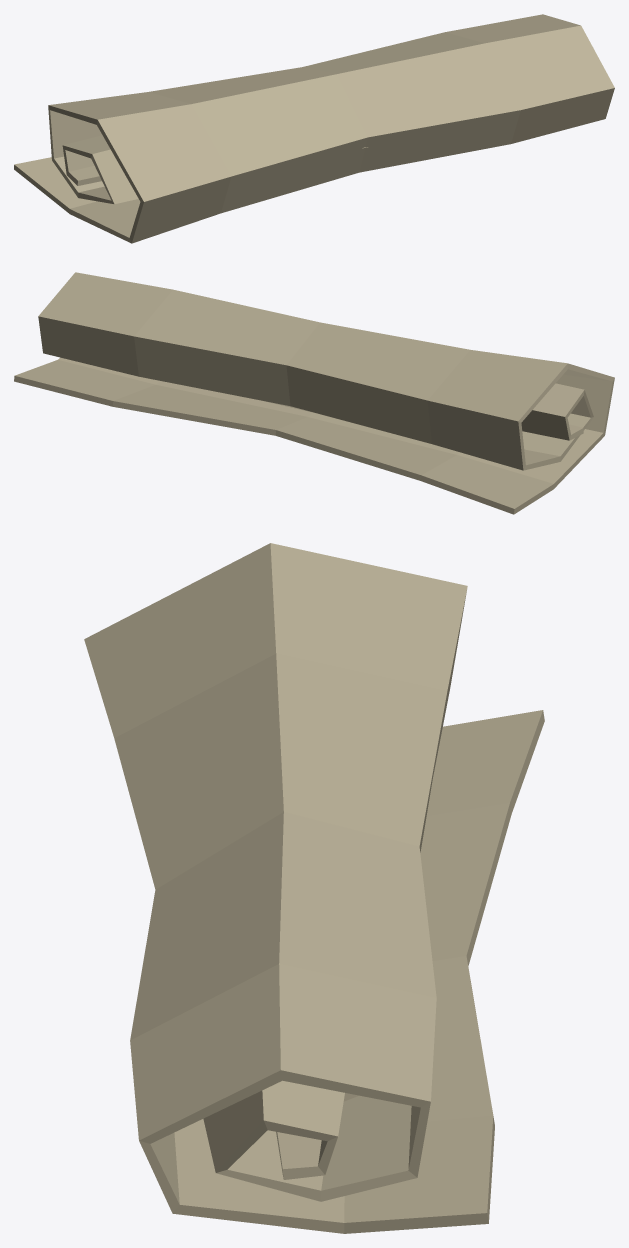
The model's file is Scroll_Big.glb.
3 renders of one model, top to bottom at view 1: azimuth 30°, elevation 25°; view 2: azimuth 150°, elevation 25°; view 3: azimuth 270°, elevation 25°, orthographic. The views are drawn at different scales.
Visible parts, largest first — view 1: Scroll_Big; view 2: Scroll_Big; view 3: Scroll_Big.
Part boxes in pixels (x1=…): Scroll_Big: x1=14, y1=14, x2=614, y2=243; Scroll_Big: x1=14, y1=272, x2=614, y2=514; Scroll_Big: x1=84, y1=543, x2=544, y2=1233.
Bounding box in the file's own units: 0.4938 × 0.0987 × 0.1905.
Materials: 1 (1 with a texture image).
